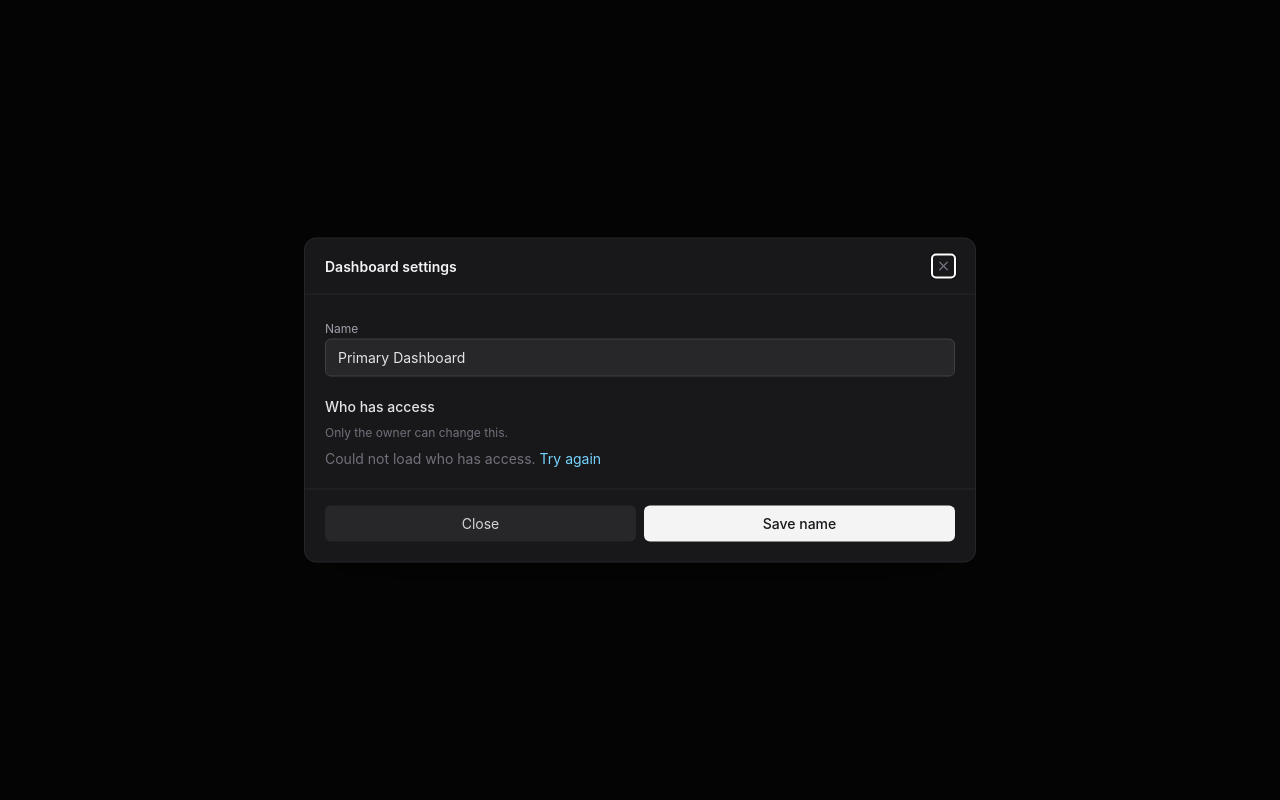
Test case: DashboardSettingsModal › offers a retry when the roster fails to load
Click the button "Try again": (570, 458) [540, 448, 601, 468]
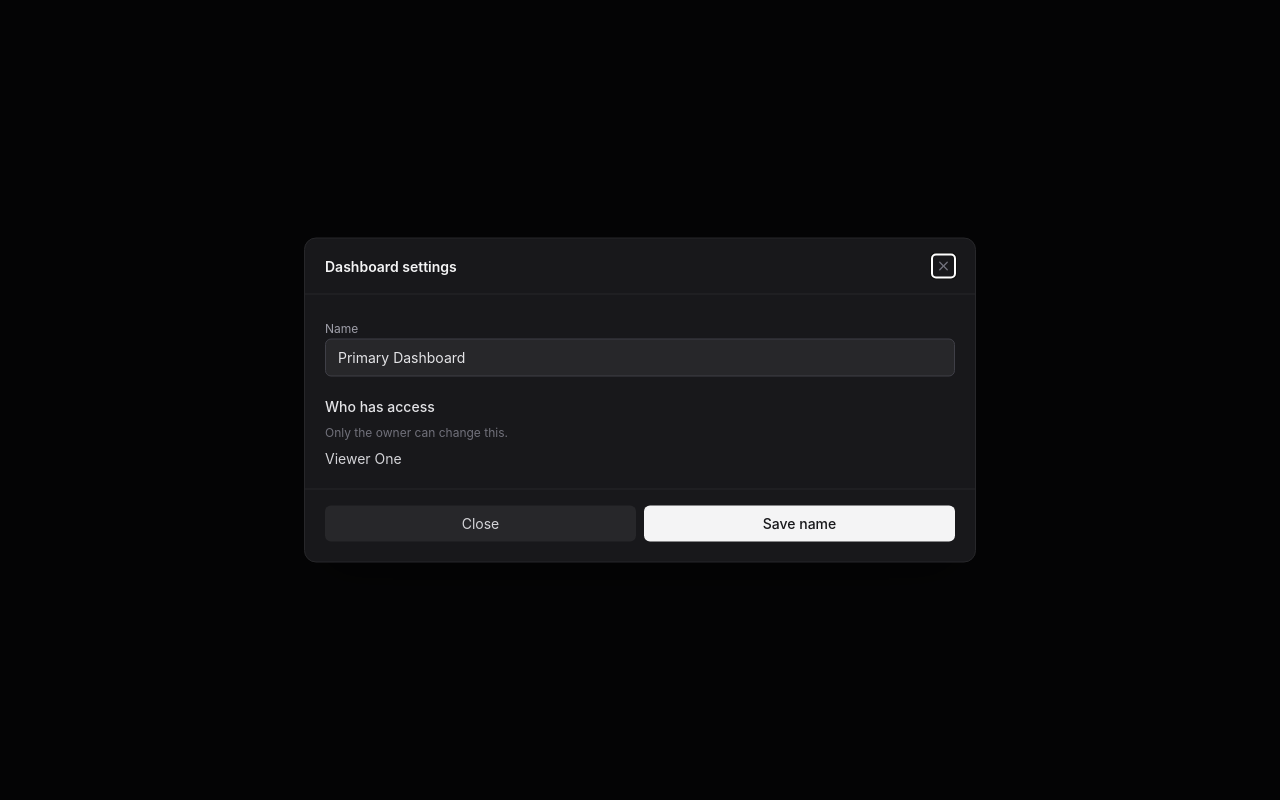
Expected: the list item "Viewer One" is shown, [325, 450, 402, 466]
